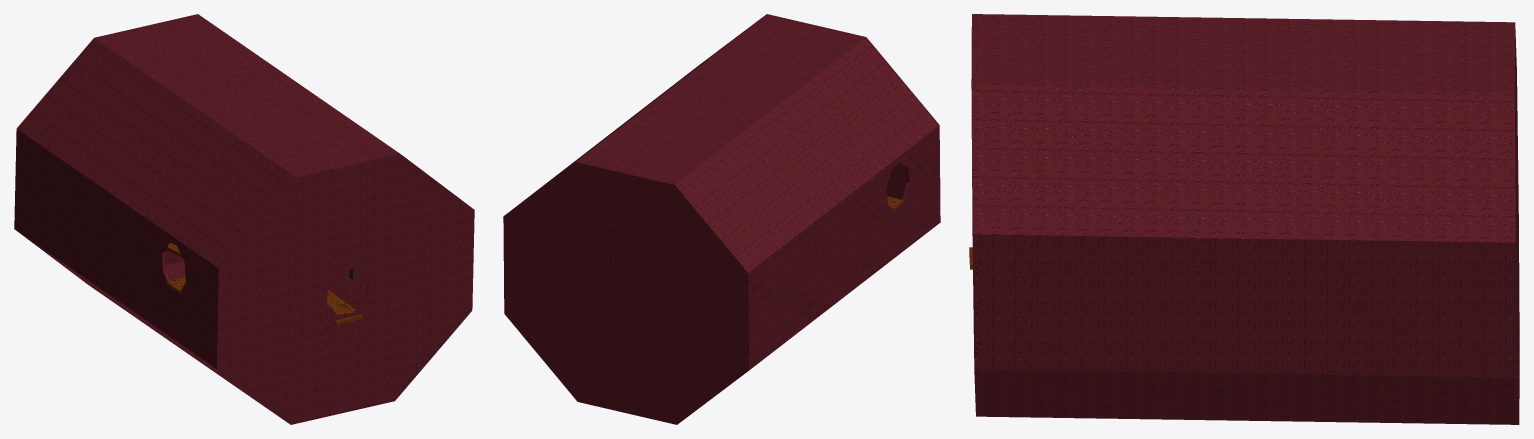
File: LavaLoby.glb
3 renders of one model, left to right at view 1: azimuth 30°, elevation 25°; view 2: azimuth 150°, elevation 25°; view 3: azimuth 270°, elevation 25°, orthographic. The views are drawn at different scales.
Parts seen in each view (by area): view 1: LavaLoby; view 2: LavaLoby; view 3: LavaLoby.
Boxes of the visible parts, left/top/right/bottom form: LavaLoby: left=14, top=14, right=474, bottom=424; LavaLoby: left=503, top=14, right=940, bottom=424; LavaLoby: left=969, top=14, right=1519, bottom=424.
Size of the model in its own units: 2318 by 2194 by 3163.
3 materials, 3 textured.
